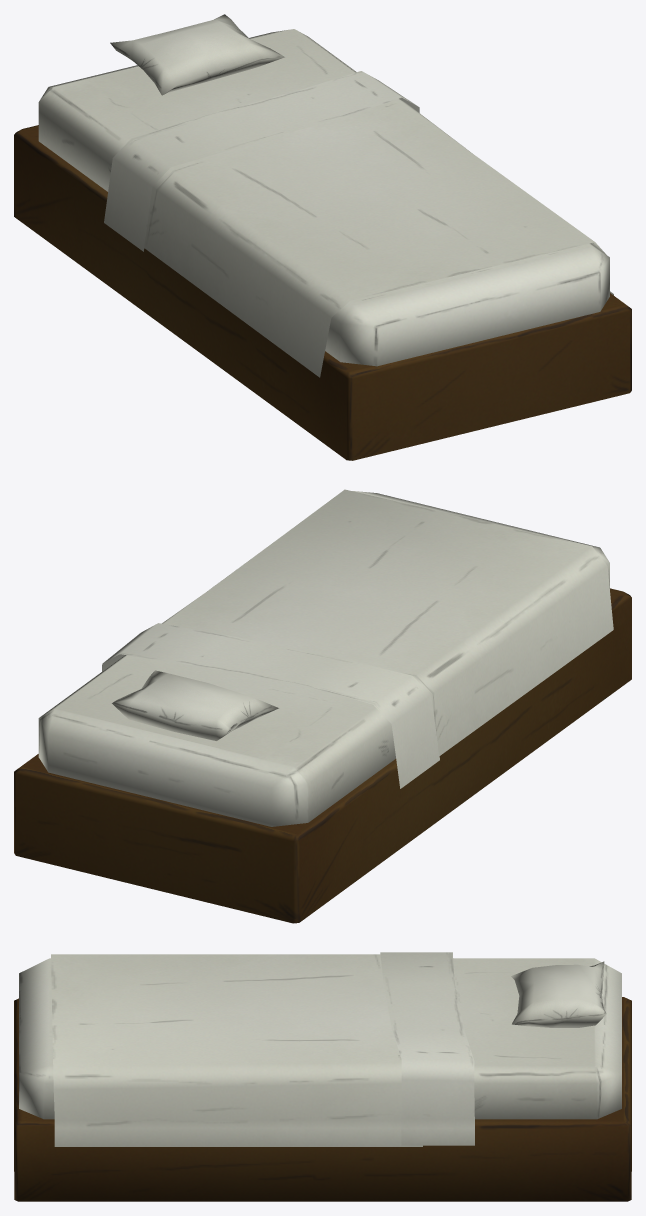
File: Bed.fbx
The picture shows the model from 3 angles, top to bottom: view 1: azimuth 30°, elevation 25°; view 2: azimuth 150°, elevation 25°; view 3: azimuth 270°, elevation 25°; orthographic projection. The views are drawn at different scales.
Parts seen in each view (by area): view 1: bed; view 2: bed; view 3: bed.
Boxes of the visible parts, x1,y1,x2,y2 form: bed: [14, 14, 631, 460]; bed: [14, 489, 631, 923]; bed: [14, 952, 631, 1201].
Bounding box in the file's own units: 169 × 94.13 × 334.
